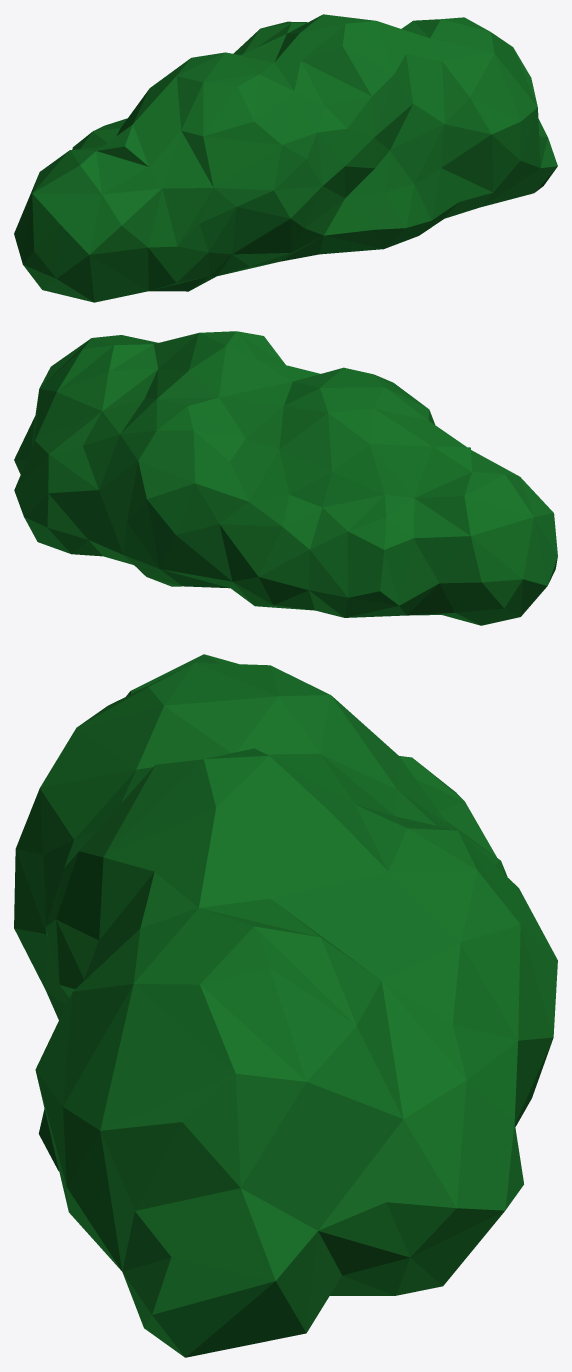
File: Bush.fbx
3 views of the same model, one above another, from view 1: azimuth 30°, elevation 25°; view 2: azimuth 150°, elevation 25°; view 3: azimuth 270°, elevation 25° (orthographic). The views are drawn at different scales.
Visible parts, largest first — view 1: Bush; view 2: Bush; view 3: Bush.
Boxes of the visible parts, x1,y1,x2,y2 form: Bush: [14, 14, 557, 302]; Bush: [14, 331, 557, 625]; Bush: [14, 654, 557, 1357].
Bounding box in the file's own units: 1440 × 587 × 658.
